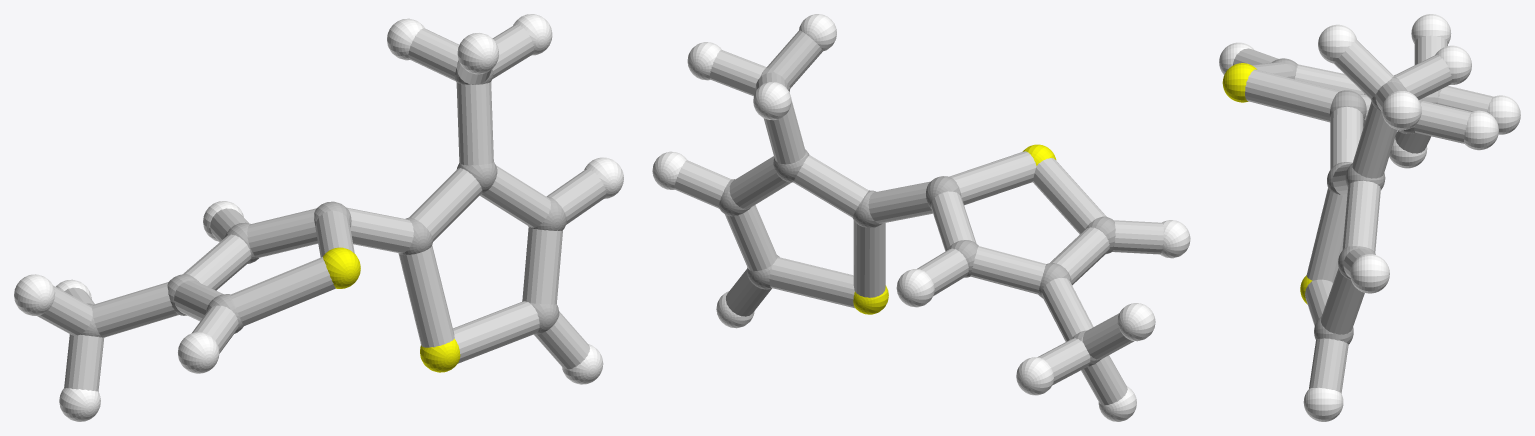
The model's file is Methylthiophene_Phi_40_Theta_270_Methylthiophene.glb.
3 views of the same model, side by side, from view 1: azimuth 30°, elevation 25°; view 2: azimuth 150°, elevation 25°; view 3: azimuth 270°, elevation 25° (orthographic). The views are drawn at different scales.
Parts seen in each view (by area): view 1: grp7965, grp3621, grp1, grp7241; view 2: grp7965, grp3621, grp1, grp7241; view 3: grp7965, grp3621, grp1, grp7241.
Part boxes in pixels (x1,y1,x2,y2): grp7965: [36, 24, 606, 391]; grp3621: [14, 14, 623, 421]; grp1: [81, 68, 566, 337]; grp7241: [323, 247, 460, 372]; grp7965: [674, 30, 1163, 405]; grp3621: [652, 14, 1190, 421]; grp1: [719, 67, 1115, 366]; grp7241: [853, 144, 1056, 314]; grp7965: [1233, 35, 1493, 393]; grp3621: [1219, 14, 1520, 421]; grp1: [1271, 58, 1441, 344]; grp7241: [1222, 63, 1312, 304].
Bounding box in the file's own units: 9.5 × 5.81 × 4.55.
